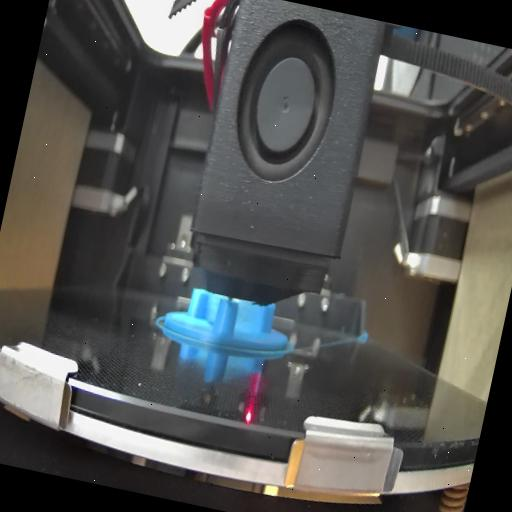stringing: (233, 296, 266, 340), (198, 290, 220, 330)
